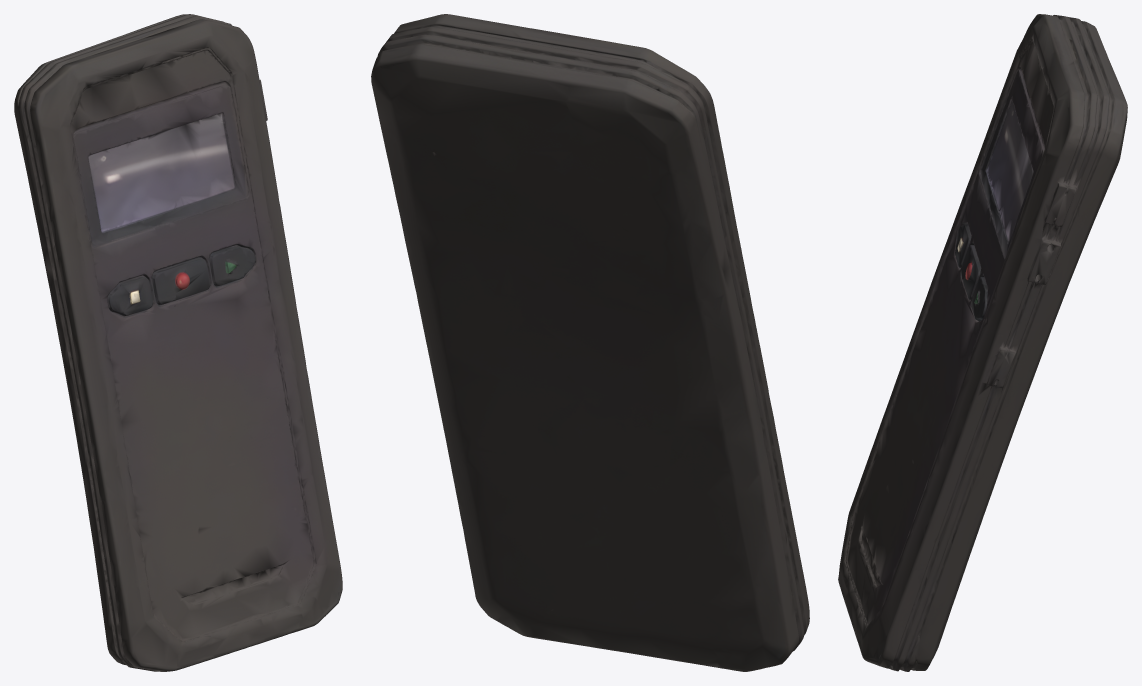
File: recorder-lite.glb
3 renders of one model, left to right at view 1: azimuth 30°, elevation 25°; view 2: azimuth 150°, elevation 25°; view 3: azimuth 270°, elevation 25°, orthographic. The views are drawn at different scales.
Parts seen in each view (by area): view 1: node_0; view 2: node_0; view 3: node_0.
Boxes of the visible parts, x1,y1,x2,y2 form: node_0: (14,14,342,671); node_0: (371,14,809,671); node_0: (838,14,1127,671).
Size of the model in its own units: 0.5059 by 1.09 by 0.4983.
1 material, 1 textured.
